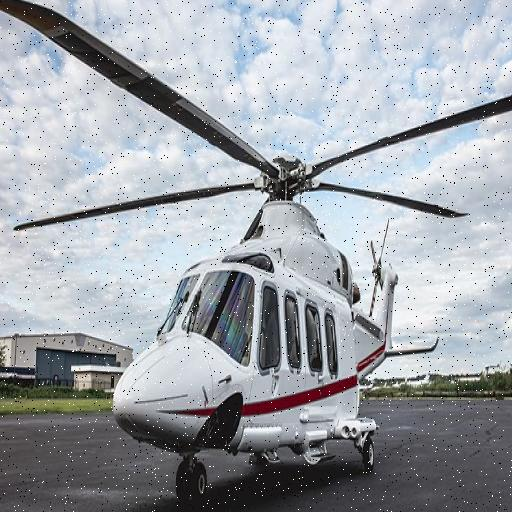helicopter: (1, 1, 512, 483)
